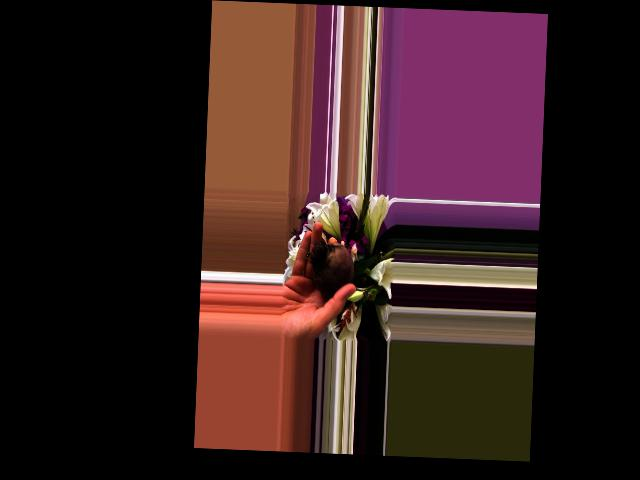beet: (310, 240, 375, 298)
